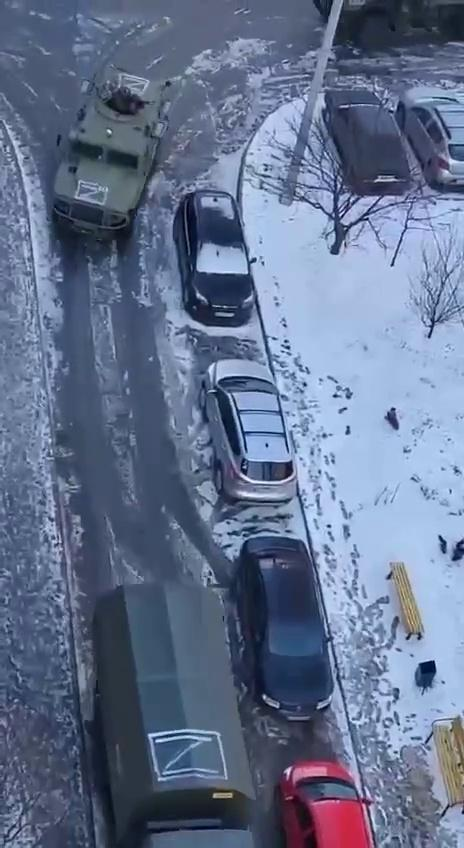armored_car: (49, 62, 176, 234)
car: (237, 535, 336, 724), (200, 358, 299, 510), (174, 189, 258, 324), (322, 86, 414, 194), (278, 760, 377, 848), (398, 86, 464, 190)
truck: (74, 574, 263, 848)
